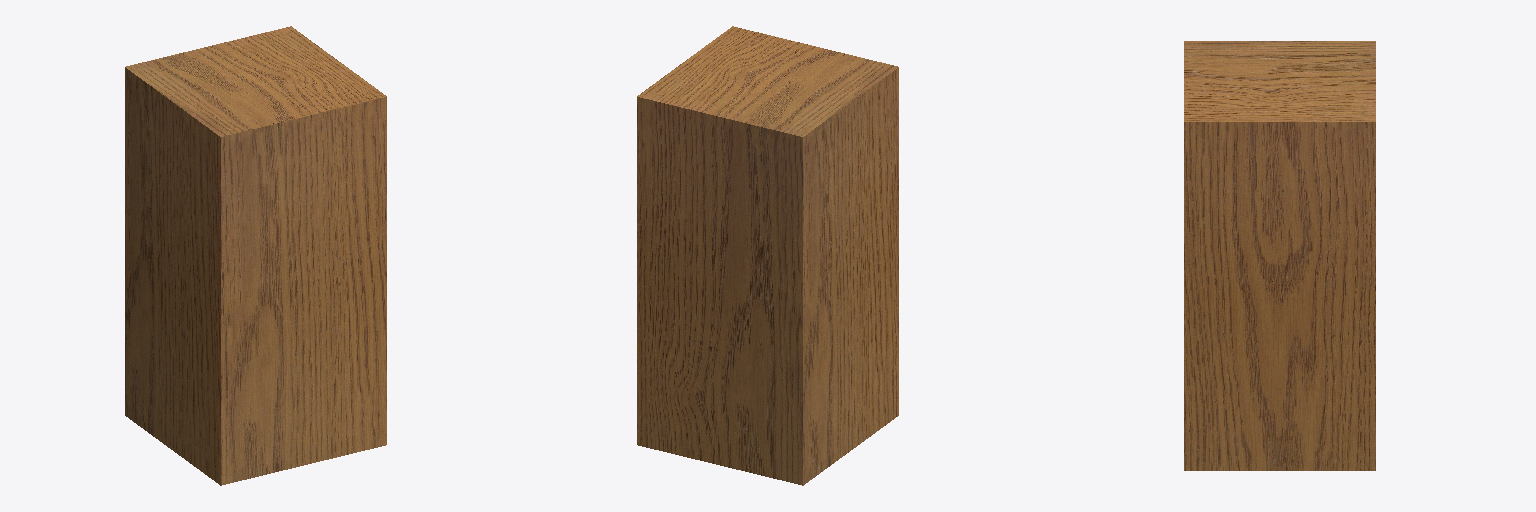
The picture shows the model from 3 angles: view 1: azimuth 30°, elevation 25°; view 2: azimuth 150°, elevation 25°; view 3: azimuth 270°, elevation 25°; orthographic projection.
Visible parts, largest first — view 1: Cube_Cube.001; view 2: Cube_Cube.001; view 3: Cube_Cube.001.
Part boxes in pixels (x1,y1,x2,y2): Cube_Cube.001: (125,26,386,485); Cube_Cube.001: (637,26,898,485); Cube_Cube.001: (1184,41,1375,470).
Bounding box in the file's own units: 1 × 2 × 1.
Materials: 1 (1 with a texture image).